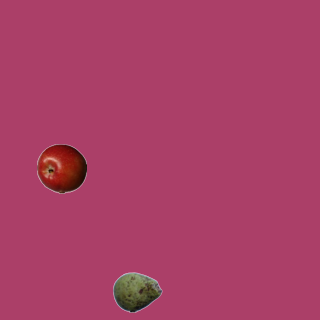Apple Braeburn: (36, 143, 86, 193)
Pear Stone: (112, 267, 162, 317)
